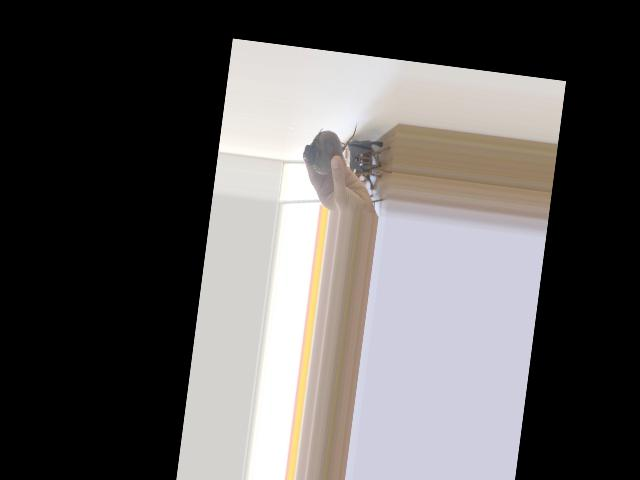beet: (301, 115, 357, 177)
